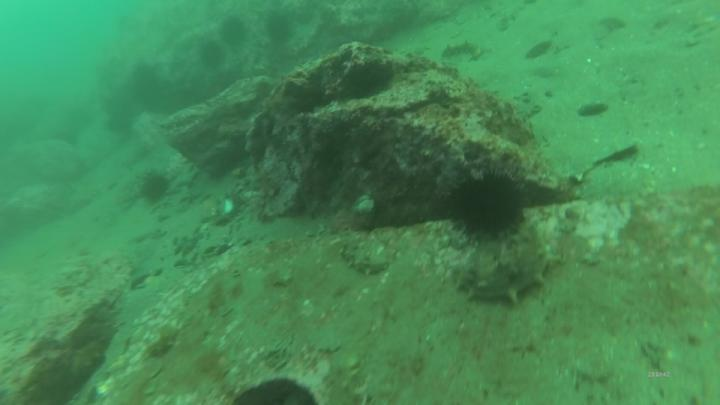echinus: (440, 157, 536, 244), (137, 168, 173, 207), (131, 61, 166, 97), (219, 15, 254, 48), (266, 12, 297, 46), (197, 38, 231, 68)
holothurian: (456, 226, 563, 312), (339, 241, 393, 279)
